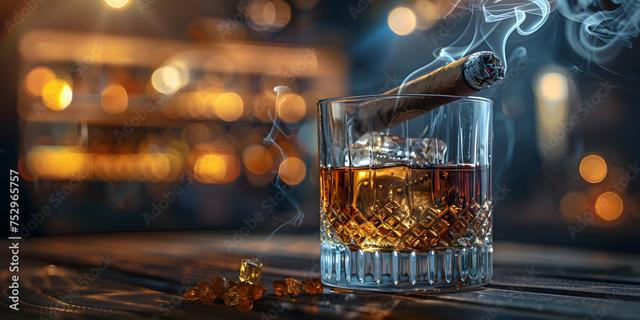Cigar: (345, 49, 505, 138)
